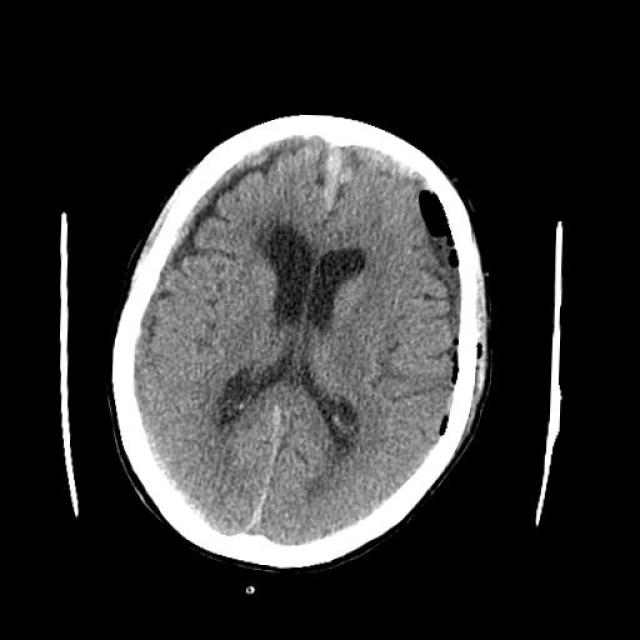Subdural: (320, 126, 416, 216)
